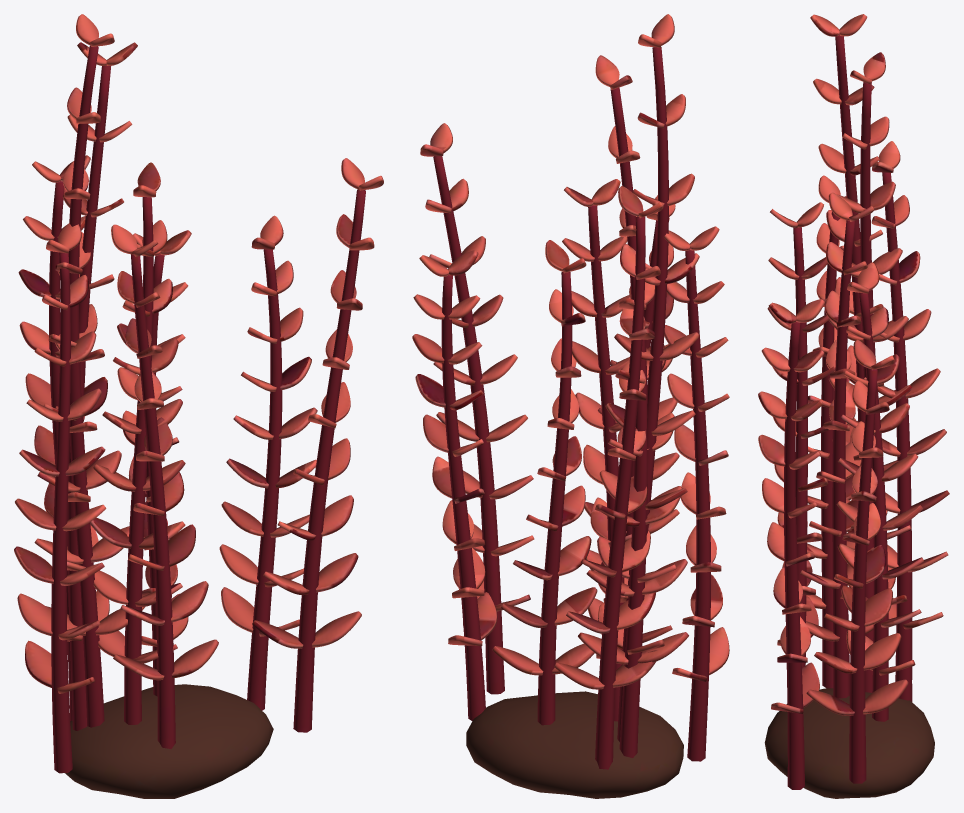
File: d_redweed.glb
3 renders of one model, left to right at view 1: azimuth 30°, elevation 25°; view 2: azimuth 150°, elevation 25°; view 3: azimuth 270°, elevation 25°, orthographic. The views are drawn at different scales.
Parts seen in each view (by area): view 1: redweed; view 2: redweed; view 3: redweed.
Part boxes in pixels (<box>): redweed: <box>14,14,383,798</box>; redweed: <box>412,14,729,798</box>; redweed: <box>758,14,949,798</box>.
Bounding box in the file's own units: 0.4962 × 1.12 × 0.2669.
1 material, 1 textured.
